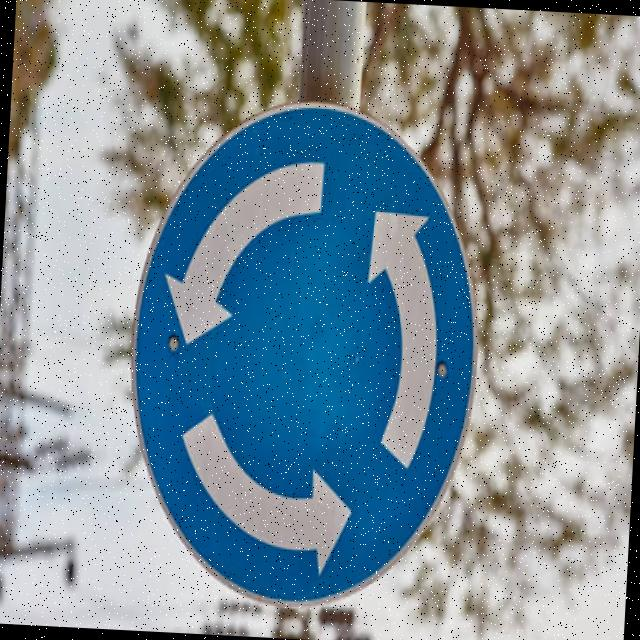round_about: (114, 85, 501, 620)
